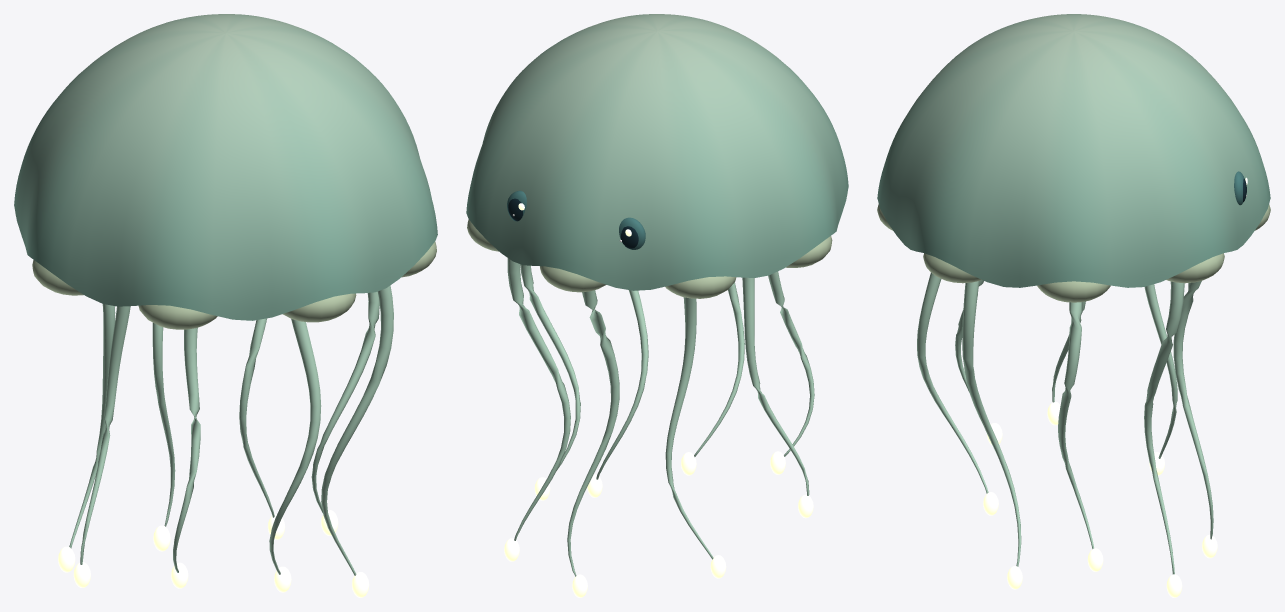
The model's file is jelly.glb.
3 renders of one model, left to right at view 1: azimuth 30°, elevation 25°; view 2: azimuth 150°, elevation 25°; view 3: azimuth 270°, elevation 25°, orthographic. The views are drawn at different scales.
Visible parts, largest first — view 1: jelly_fixed_Opal skin, jelly_tentacle_7_Silken fins, jelly_tentacle_6_Silken fins, jelly_tentacle_4_Silken fins, jelly_tentacle_5_Silken fins, jelly_tentacle_0_Silken fins, jelly_tentacle_1_Silken fins, jelly_tentacle_3_Silken fins, jelly_tentacle_2_Silken fins; view 2: jelly_fixed_Opal skin, jelly_tentacle_1_Silken fins, jelly_tentacle_2_Silken fins, jelly_tentacle_3_Silken fins, jelly_tentacle_4_Silken fins, jelly_tentacle_0_Silken fins, jelly_tentacle_7_Silken fins, jelly_tentacle_5_Silken fins, jelly_tentacle_6_Silken fins; view 3: jelly_fixed_Opal skin, jelly_tentacle_7_Silken fins, jelly_tentacle_1_Silken fins, jelly_tentacle_0_Silken fins, jelly_tentacle_2_Silken fins, jelly_tentacle_6_Silken fins, jelly_tentacle_3_Silken fins.
Part boxes in pixels (left/top/right/bottom): jelly_fixed_Opal skin: left=14, top=14, right=437, bottom=329; jelly_tentacle_7_Silken fins: left=321, top=285, right=393, bottom=575; jelly_tentacle_6_Silken fins: left=269, top=319, right=321, bottom=574; jelly_tentacle_4_Silken fins: left=80, top=306, right=130, bottom=564; jelly_tentacle_5_Silken fins: left=173, top=327, right=200, bottom=572; jelly_tentacle_0_Silken fins: left=311, top=291, right=379, bottom=513; jelly_tentacle_1_Silken fins: left=239, top=318, right=274, bottom=517; jelly_tentacle_3_Silken fins: left=69, top=304, right=115, bottom=548; jelly_tentacle_2_Silken fins: left=152, top=323, right=175, bottom=526; jelly_fixed_Opal skin: left=466, top=14, right=848, bottom=298; jelly_tentacle_1_Silken fins: left=507, top=258, right=570, bottom=540; jelly_tentacle_2_Silken fins: left=567, top=290, right=619, bottom=576; jelly_tentacle_3_Silken fins: left=665, top=297, right=713, bottom=559; jelly_tentacle_4_Silken fins: left=742, top=277, right=809, bottom=495; jelly_tentacle_0_Silken fins: left=520, top=264, right=580, bottom=469; jelly_tentacle_7_Silken fins: left=596, top=290, right=648, bottom=479; jelly_tentacle_5_Silken fins: left=768, top=271, right=814, bottom=456; jelly_tentacle_6_Silken fins: left=694, top=282, right=744, bottom=456; jelly_fixed_Opal skin: left=877, top=14, right=1270, bottom=302; jelly_tentacle_7_Silken fins: left=962, top=281, right=1021, bottom=566; jelly_tentacle_1_Silken fins: left=1144, top=281, right=1184, bottom=574; jelly_tentacle_0_Silken fins: left=1058, top=302, right=1093, bottom=548; jelly_tentacle_2_Silken fins: left=1173, top=281, right=1213, bottom=539; jelly_tentacle_6_Silken fins: left=917, top=272, right=988, bottom=493; jelly_tentacle_3_Silken fins: left=1144, top=284, right=1177, bottom=458.
Bounding box in the file's own units: 2.28 × 3.33 × 2.28.
